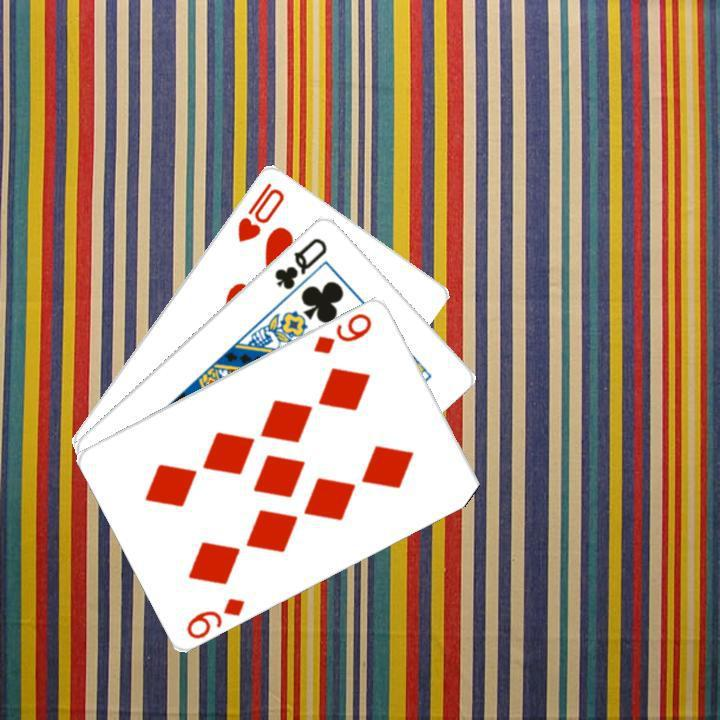10: (232, 178, 287, 244)
9: (309, 308, 374, 356), (182, 592, 247, 640)
Q: (270, 232, 330, 292)
